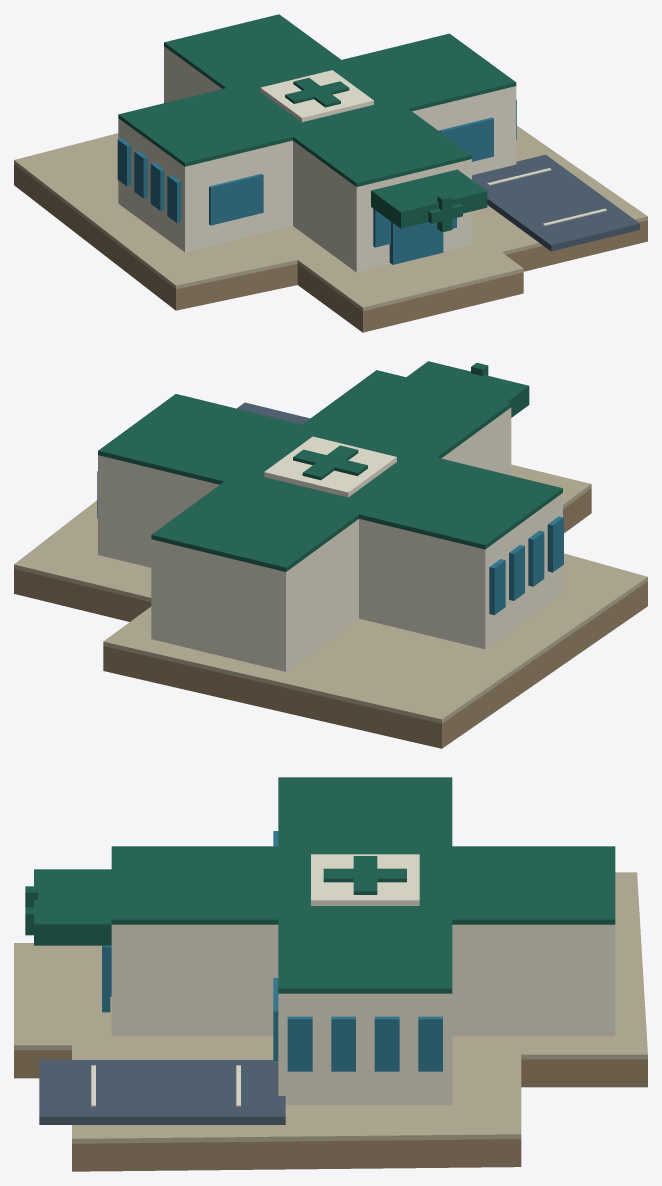
Rendered from medical-center-lv1.glb.
3 renders of one model, top to bottom at view 1: azimuth 30°, elevation 25°; view 2: azimuth 150°, elevation 25°; view 3: azimuth 270°, elevation 25°, orthographic. The views are drawn at different scales.
Parts seen in each view (by area): view 1: cross_clinic_jade, cross_clinic_white, foundation_paving, foundation_stoneDark, ambulance_lane_slate, clinic_windows_glass, entry_canopy_jade, side_clinic_windows_glass, roof_mark_white, clinic_entry_glass, roof_mark_jade, medical_mark_jade; view 2: cross_clinic_white, cross_clinic_jade, foundation_paving, foundation_stoneDark, side_clinic_windows_glass, roof_mark_white, entry_canopy_jade, roof_mark_jade, ambulance_lane_slate; view 3: cross_clinic_jade, cross_clinic_white, foundation_paving, foundation_stoneDark, ambulance_lane_slate, entry_canopy_jade, side_clinic_windows_glass, roof_mark_white, roof_mark_jade, clinic_windows_glass.
Boxes of the visible parts, box(x1,y1,x2,y2) form: cross_clinic_jade: box(118, 14, 516, 186); cross_clinic_white: box(118, 46, 516, 272); foundation_paving: box(14, 126, 647, 311); foundation_stoneDark: box(14, 164, 647, 332); ambulance_lane_slate: box(472, 154, 639, 251); clinic_windows_glass: box(209, 117, 493, 247); entry_canopy_jade: box(371, 169, 487, 228); side_clinic_windows_glass: box(117, 100, 516, 222); roof_mark_white: box(260, 70, 373, 122); clinic_entry_glass: box(389, 222, 443, 264); roof_mark_jade: box(285, 78, 349, 107); medical_mark_jade: box(428, 194, 462, 232); cross_clinic_white: box(98, 407, 562, 671); cross_clinic_jade: box(98, 370, 562, 571); foundation_paving: box(14, 464, 647, 723); foundation_stoneDark: box(14, 488, 647, 748); side_clinic_windows_glass: box(97, 471, 563, 615); roof_mark_white: box(264, 436, 396, 497); entry_canopy_jade: box(406, 361, 529, 417); roof_mark_jade: box(293, 445, 367, 480); ambulance_lane_slate: box(237, 402, 309, 424); cross_clinic_jade: box(111, 777, 615, 993); cross_clinic_white: box(111, 924, 615, 1104); foundation_paving: box(14, 872, 647, 1143); foundation_stoneDark: box(14, 1050, 647, 1171); ambulance_lane_slate: box(39, 1060, 285, 1124); entry_canopy_jade: box(34, 869, 111, 945); side_clinic_windows_glass: box(287, 1016, 442, 1071); roof_mark_white: box(311, 854, 419, 905); roof_mark_jade: box(323, 856, 406, 894); clinic_windows_glass: box(107, 831, 278, 1060).
Size of the model in its own units: 1 by 0.2729 by 0.9887.
